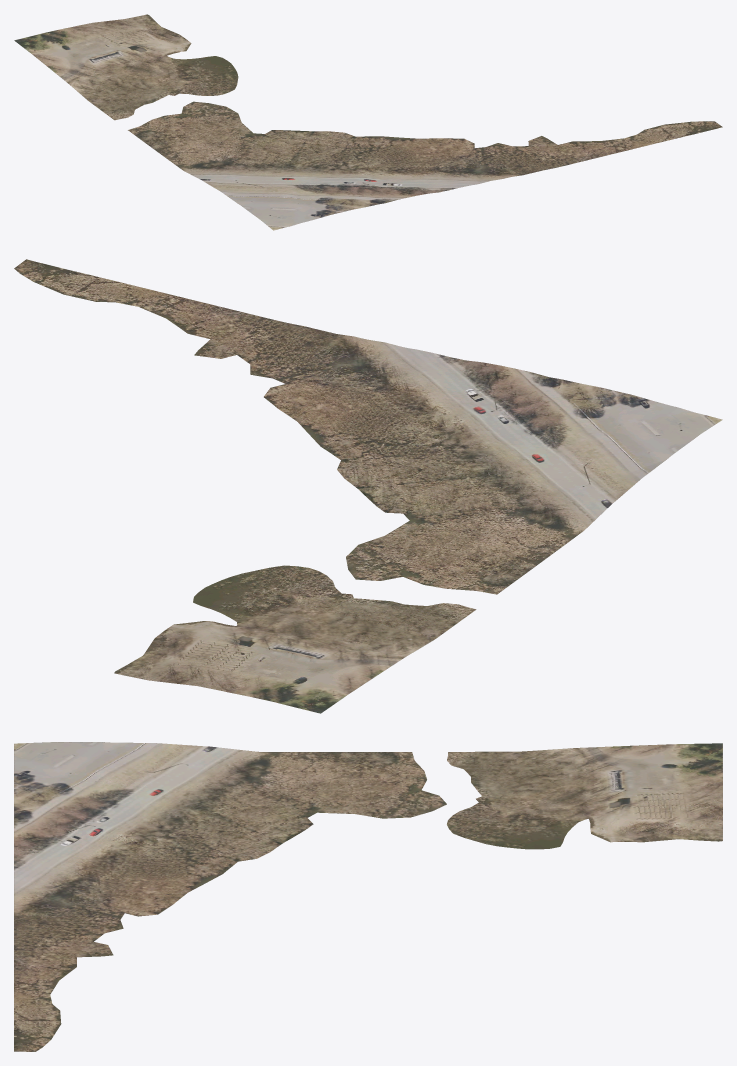
The model's file is CM_Terrain_24489639_6819180.fbx.
The picture shows the model from 3 angles, top to bottom: view 1: azimuth 30°, elevation 25°; view 2: azimuth 150°, elevation 25°; view 3: azimuth 270°, elevation 25°; orthographic projection. The views are drawn at different scales.
Parts seen in each view (by area): view 1: CM_Terrain_24489639_6819180_LOD0; view 2: CM_Terrain_24489639_6819180_LOD0; view 3: CM_Terrain_24489639_6819180_LOD0.
Part boxes in pixels (left/top/right/bottom): CM_Terrain_24489639_6819180_LOD0: left=14, top=14, right=722, bottom=230; CM_Terrain_24489639_6819180_LOD0: left=14, top=259, right=722, bottom=713; CM_Terrain_24489639_6819180_LOD0: left=14, top=742, right=722, bottom=1051.
Size of what is drawn, in the model's own units: 205 by 3.54 by 205.
